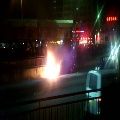fire: (40, 49, 60, 79)
